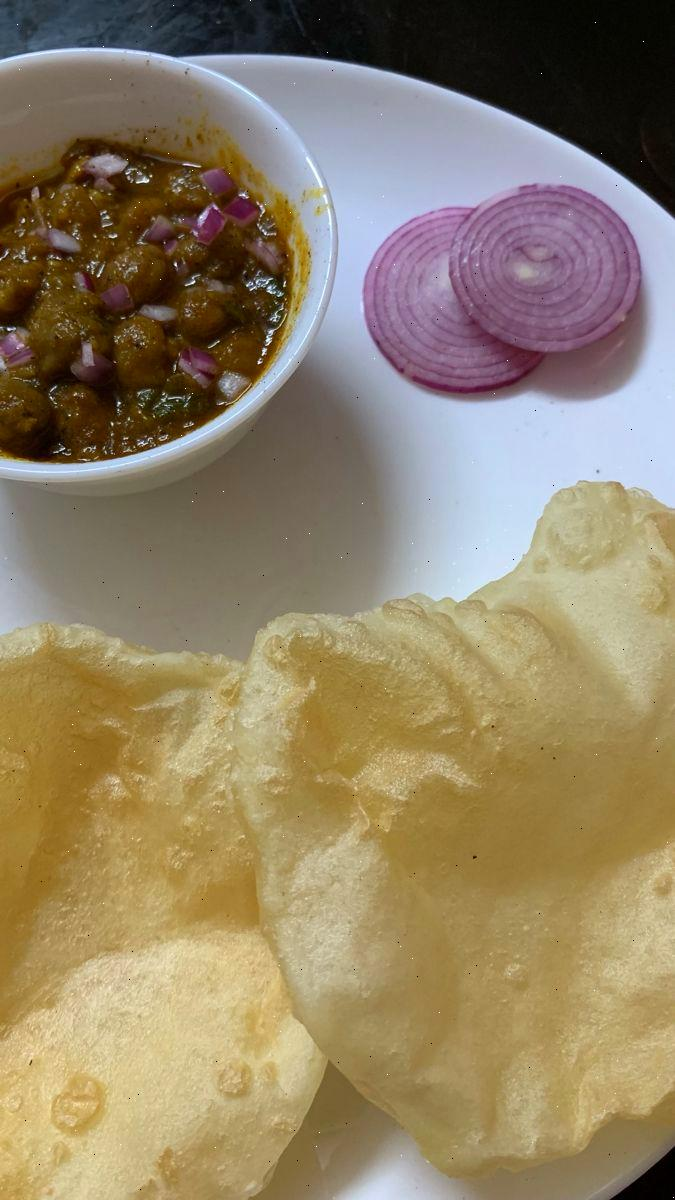chole: (0, 123, 288, 441)
puri: (5, 578, 675, 1174)
salad: (390, 191, 655, 376)
